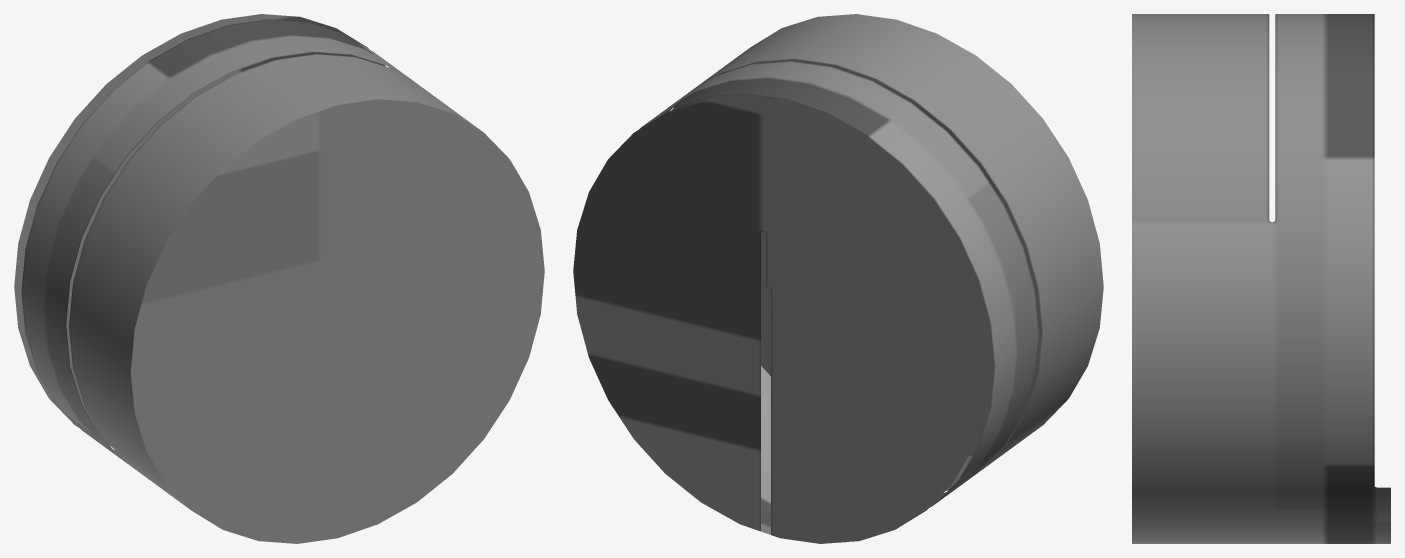
3 views of the same model, side by side, from view 1: azimuth 30°, elevation 25°; view 2: azimuth 150°, elevation 25°; view 3: azimuth 270°, elevation 25° (orthographic). The views are drawn at different scales.
Bounding box in the file's own units: 0.97 × 0.97 × 0.473.
